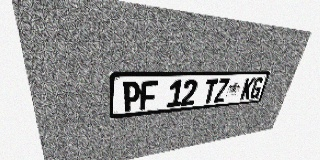1: (167, 80, 184, 107)
2: (181, 79, 198, 106)
F: (140, 81, 158, 110)
G: (249, 77, 264, 99)
K: (240, 78, 255, 100)
P: (122, 81, 141, 112)
T: (202, 79, 219, 104)
Z: (213, 78, 230, 103)
